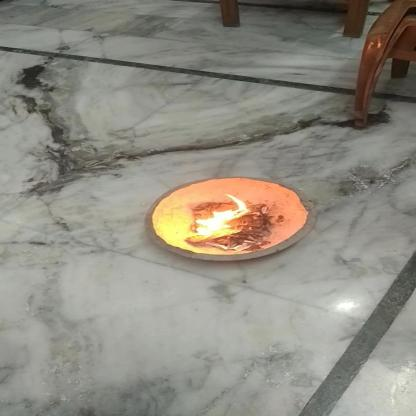fire: (188, 193, 253, 239)
